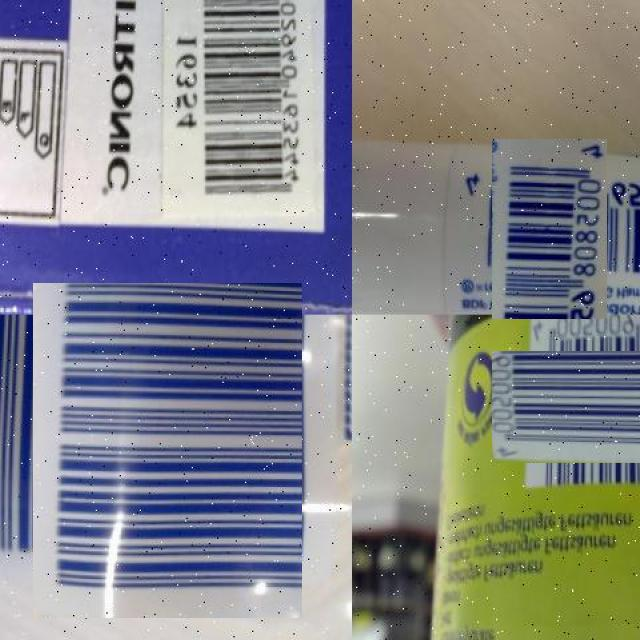Barcode: (16, 299, 319, 601), (154, 0, 322, 228), (476, 154, 624, 302), (510, 333, 640, 482)
